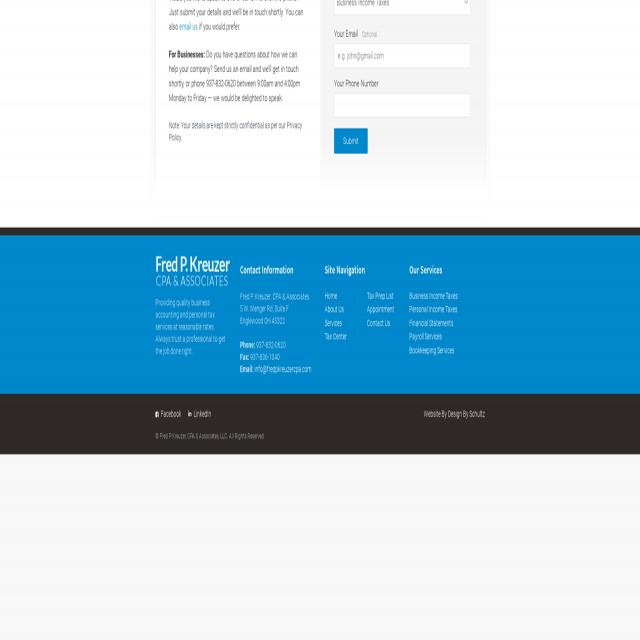button: (156, 255, 230, 287), (334, 128, 368, 154)
field: (334, 93, 471, 118), (334, 44, 471, 68), (334, 0, 471, 15)
